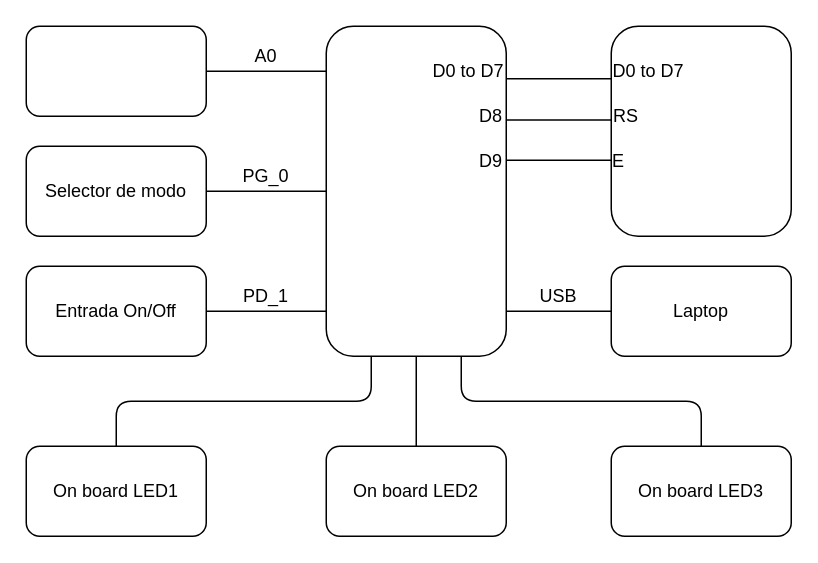
Some shapes in this 818 by 563 pixel diagram are drawn without their labels. The shapes that lost their labels are listed below. From the top down, each one's box as (x1, y1, x2, y2) in pixels, then its label:
(25, 25, 206, 116): Potenciometro actuador
(610, 25, 791, 236): Display 2x16
(325, 25, 506, 356): NUCLEO-F429ZI
